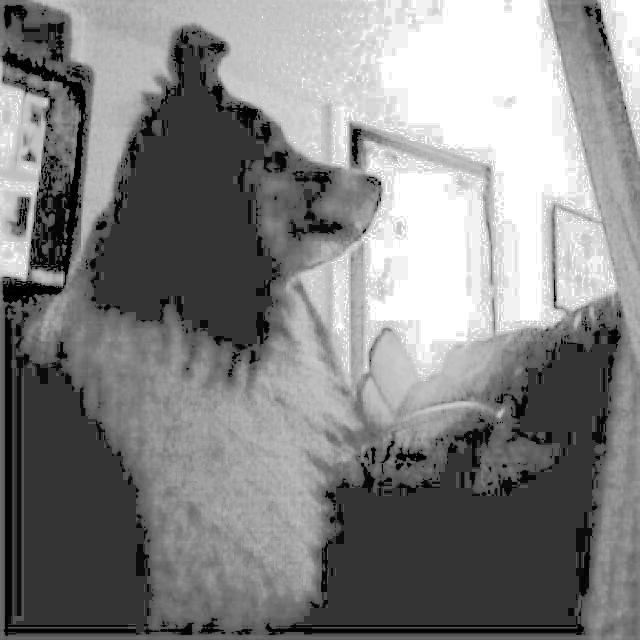Dog: (20, 17, 389, 640)
